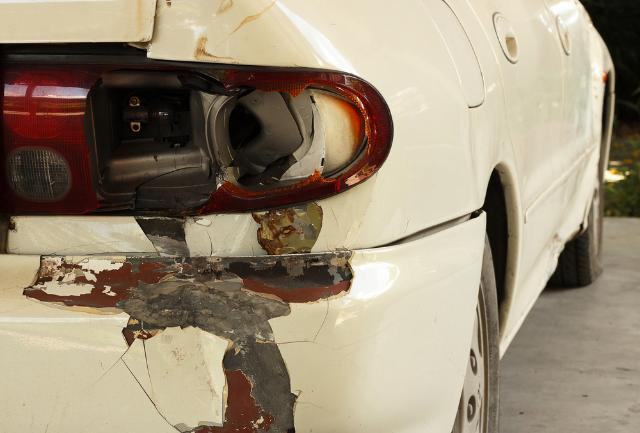dislocated part: (0, 207, 491, 433)
lamp broken: (0, 55, 393, 218)
